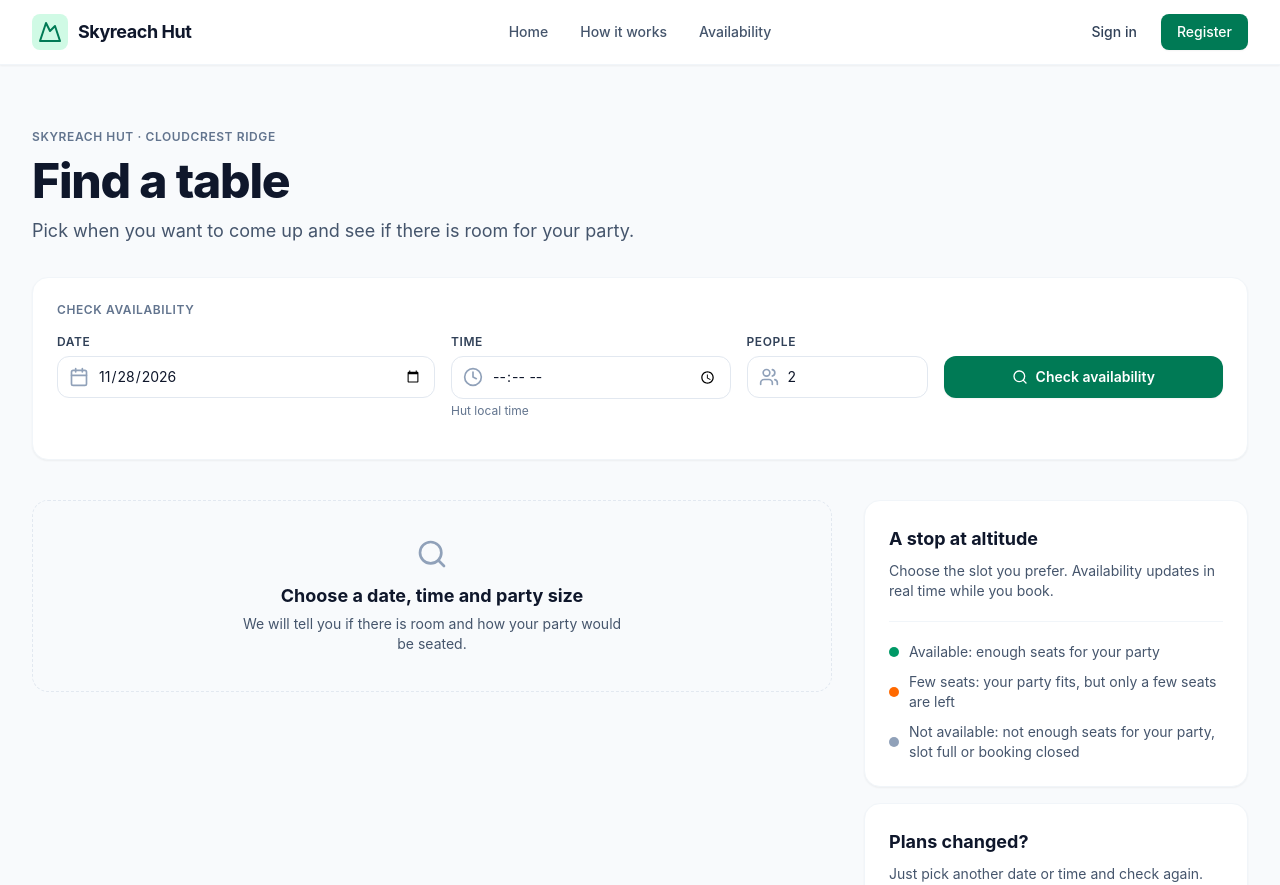
Test case: CheckAvailability › shows field errors and skips the API for an invalid search
Type "2000-01-01" into the date field labelled "Date" at [246, 377], box [57,356,435,398]
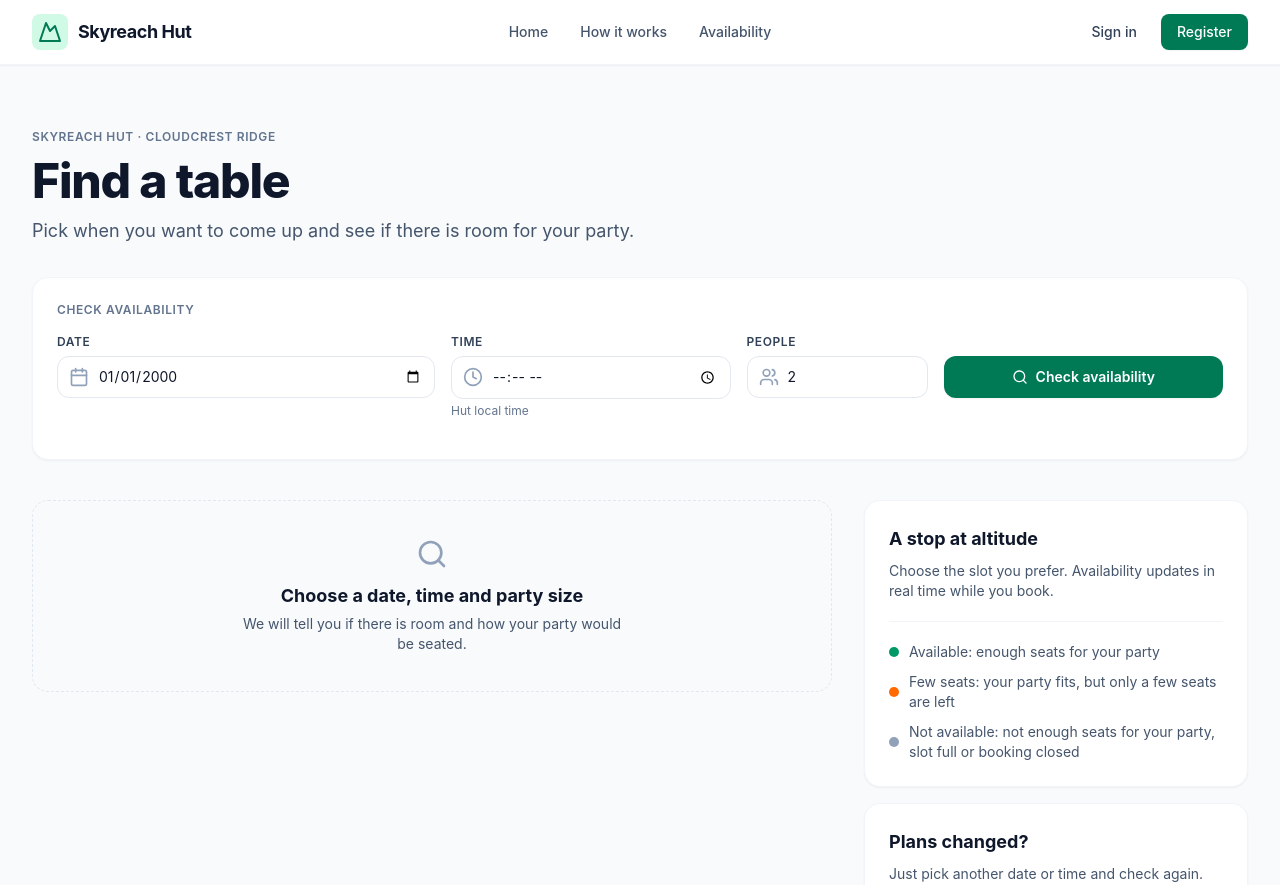
Replace the text in the number field labelled "People" with "0" at [837, 377], box [746,356,928,398]
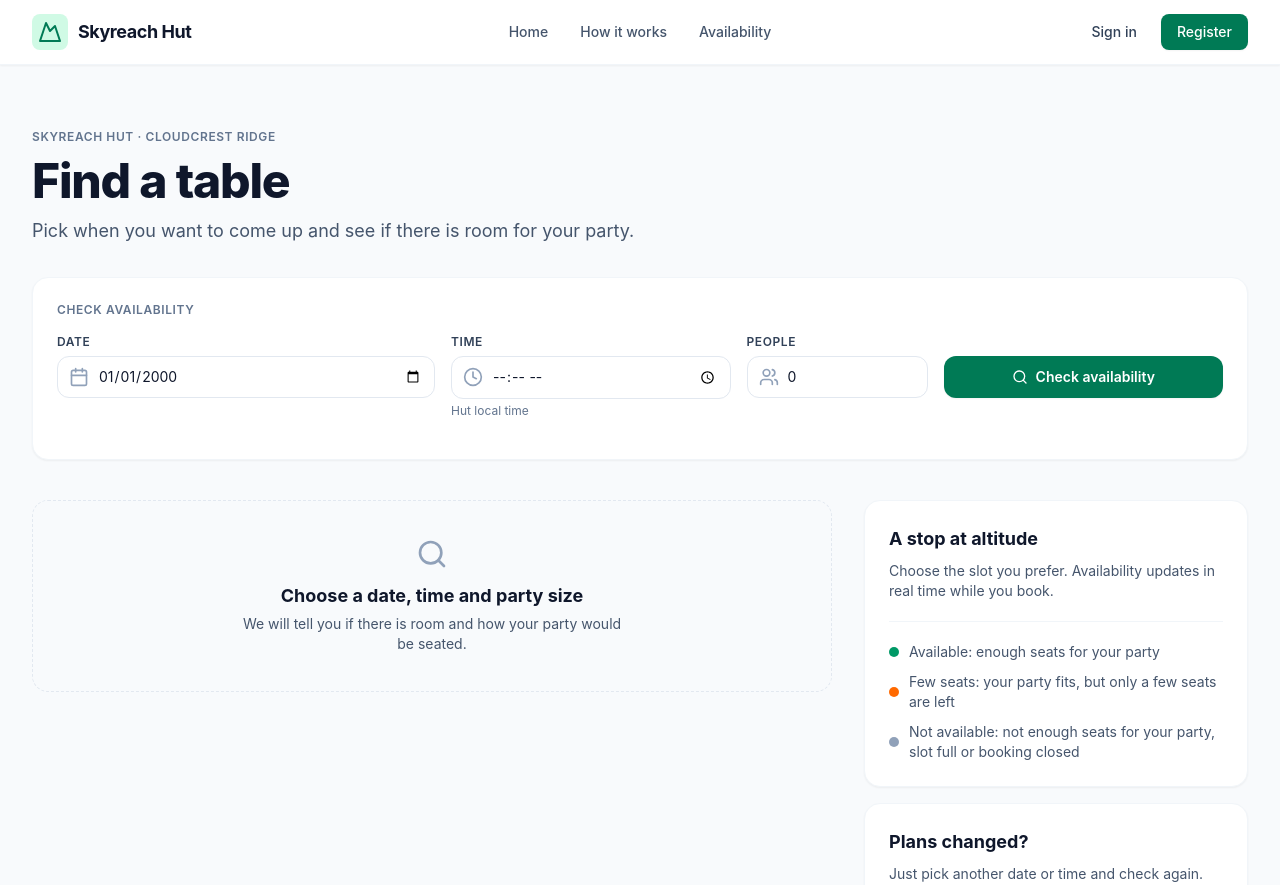
Click the button "Check availability" at [1083, 377], box [944,356,1223,398]
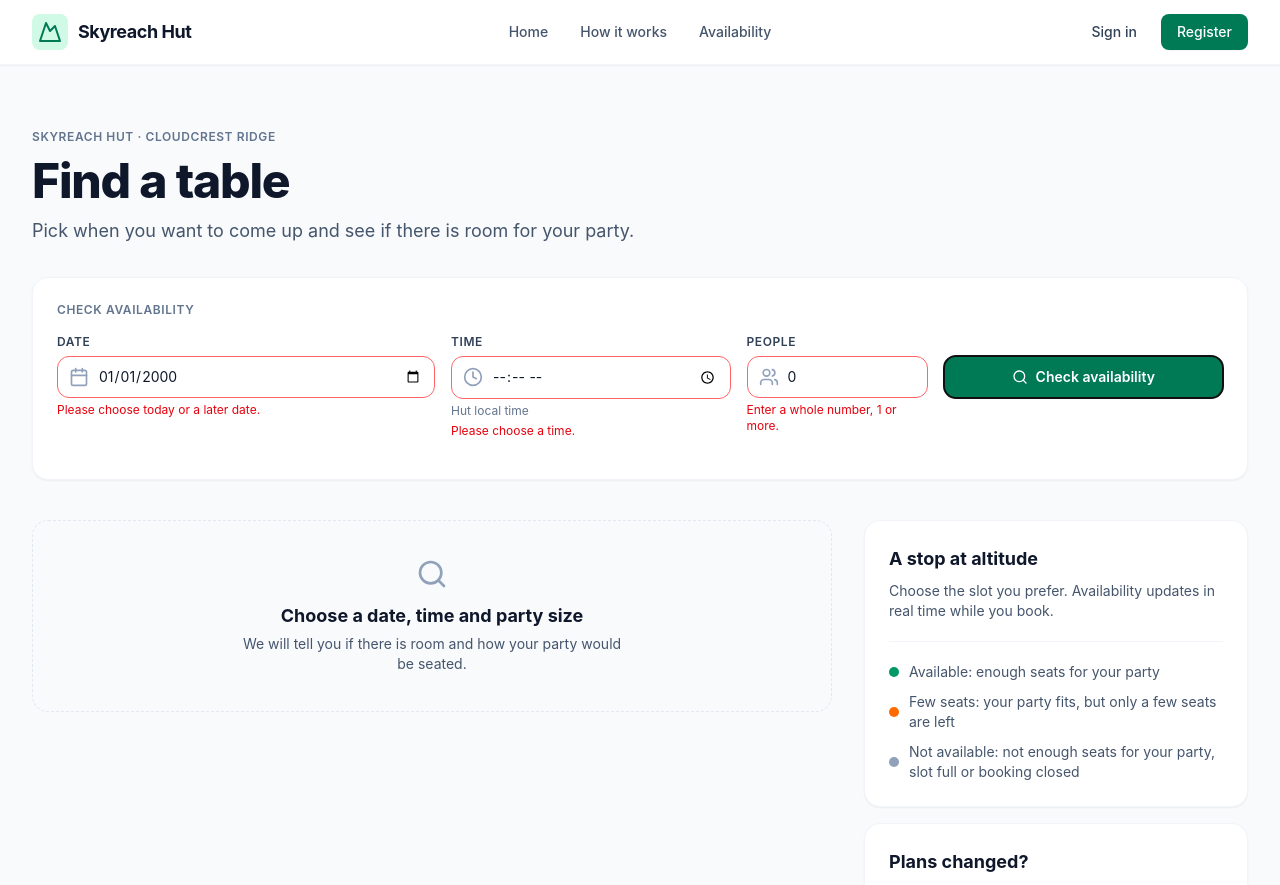
Expected: the text "Please choose today or a later date." is shown, [57,402,260,417]
Expected: the text "Please choose a time." is shown, [451,423,575,438]
Expected: the text "Enter a whole number, 1 or more." is shown, [746,402,897,433]
